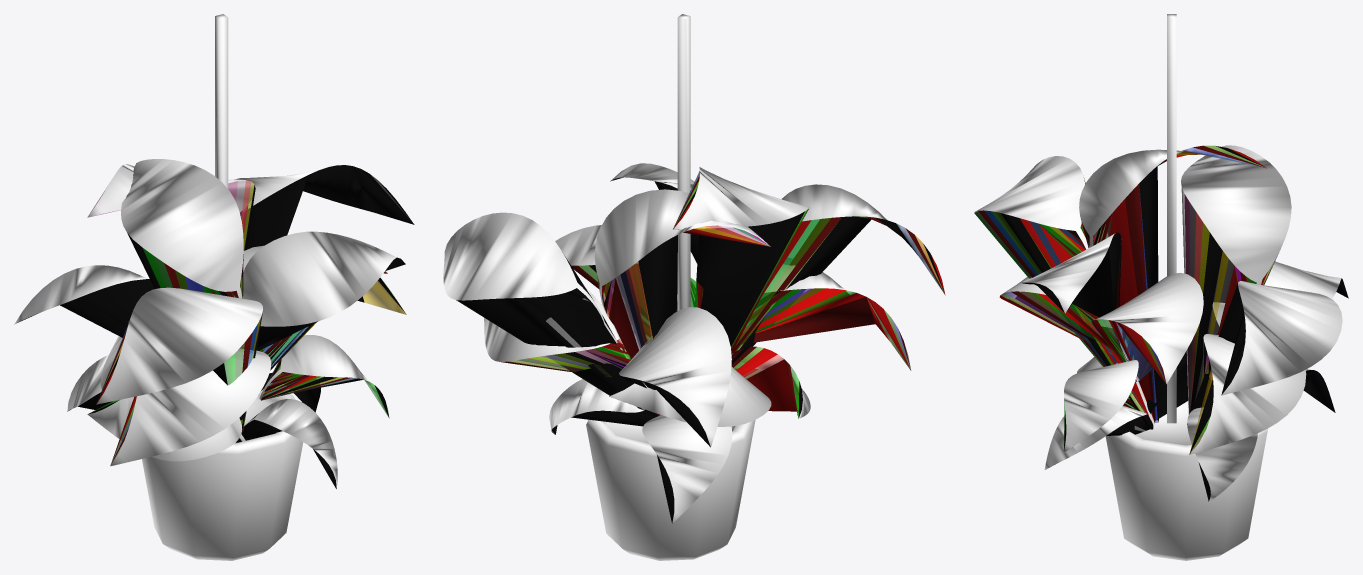
3 views of the same model, side by side, from view 1: azimuth 30°, elevation 25°; view 2: azimuth 150°, elevation 25°; view 3: azimuth 270°, elevation 25° (orthographic).
Size of the model in its own units: 0.7802 by 0.95 by 0.6216.
